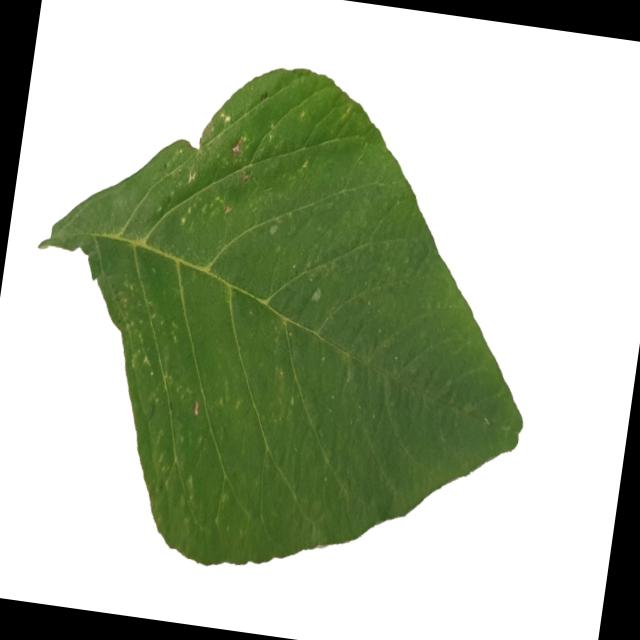Medicinal-Arive Dantu: (0, 29, 570, 623)
